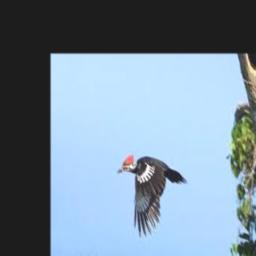Woodpecker: (117, 153, 188, 237)
